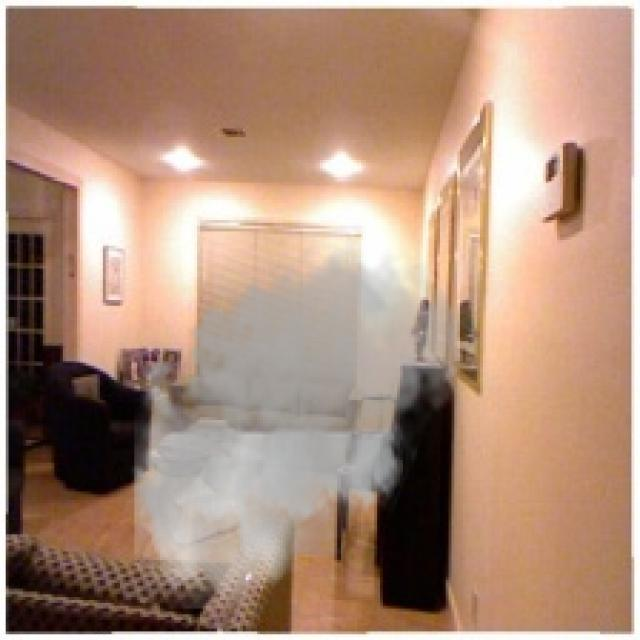Smoke: (120, 234, 469, 609)
